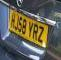5: (19, 16, 22, 32)
8: (22, 18, 26, 34)
J: (15, 15, 19, 31)
R: (33, 23, 38, 41)
V: (28, 20, 33, 38)
Z: (38, 25, 44, 43)
